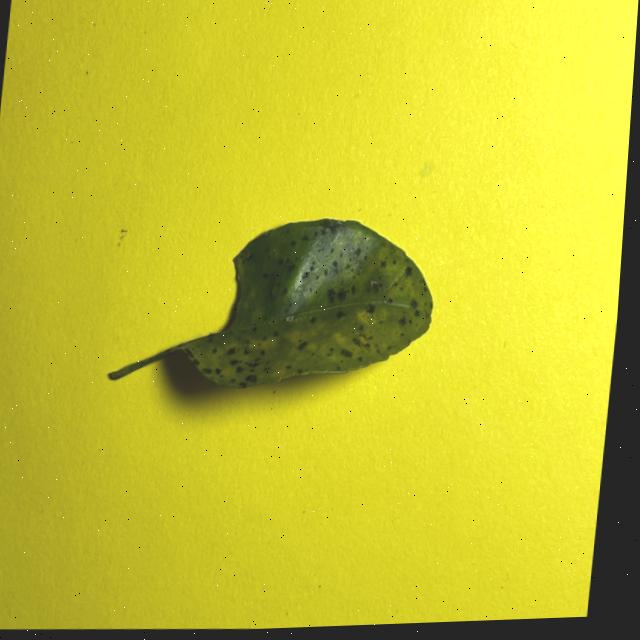sooty_mold: (109, 218, 433, 387)
